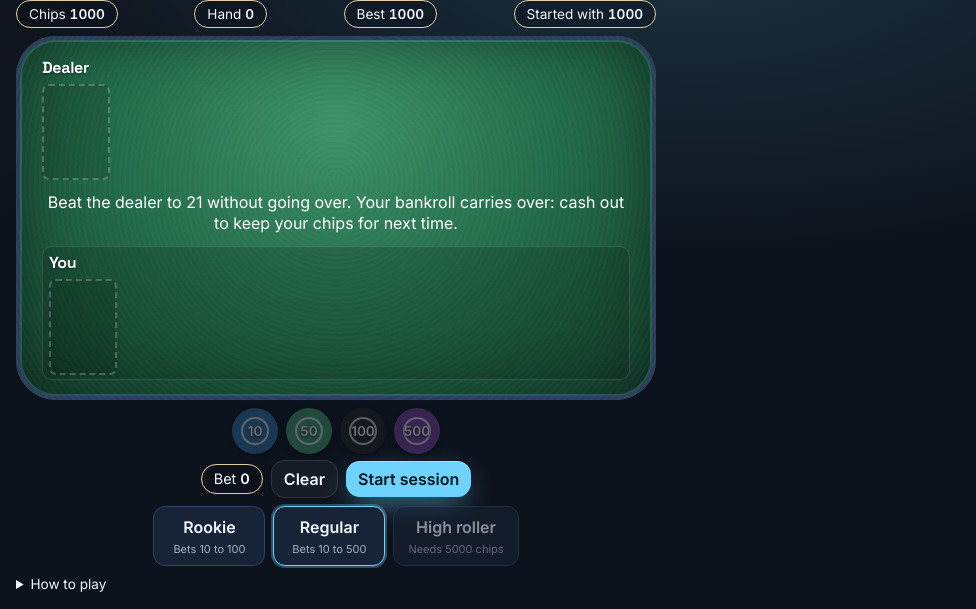
Blackjack › dealing gives two cards each, the dealer hole card stays face down, and the saved session resumes
This screenshot has width=976, height=609.
Click the button "Start session" at (409, 479), box [346,461,471,497]
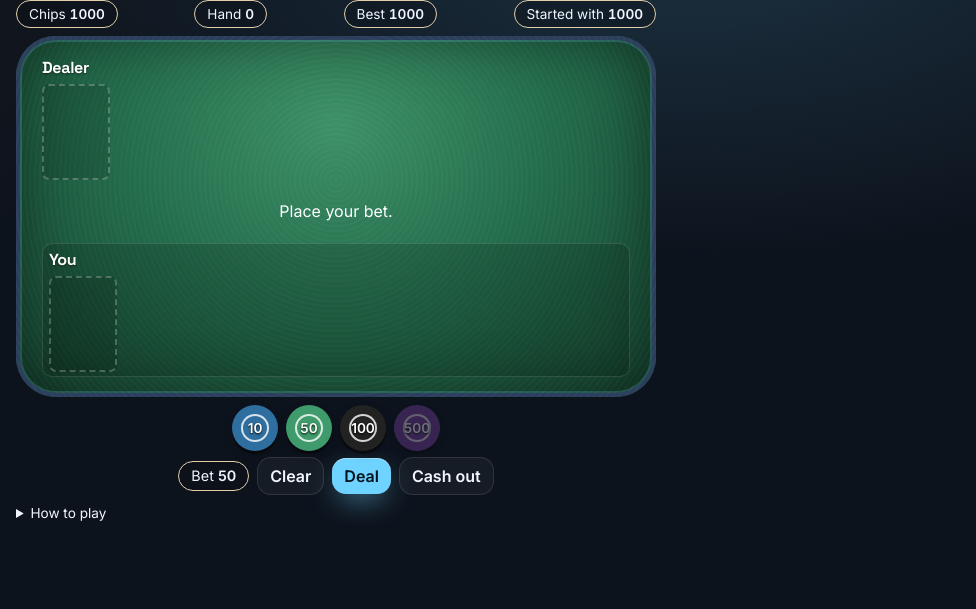
Click the button "Deal" at (362, 476), box [332,458,391,494]
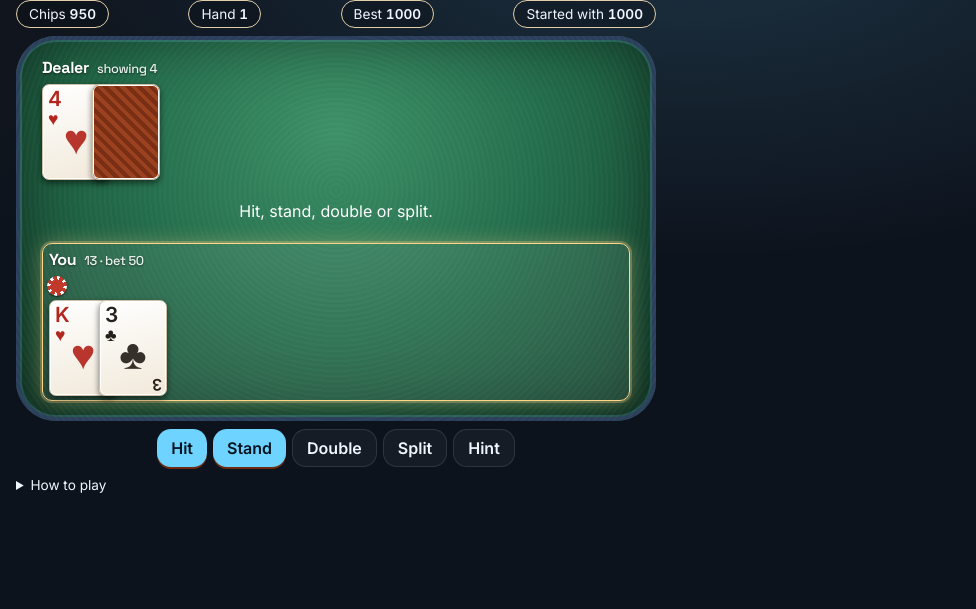
Expected: the number of elements with class "bj-hole" is 1, [92,84,160,180]
